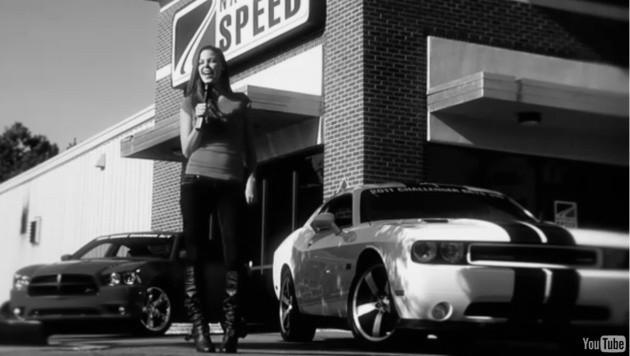car: (271, 185, 630, 347)
